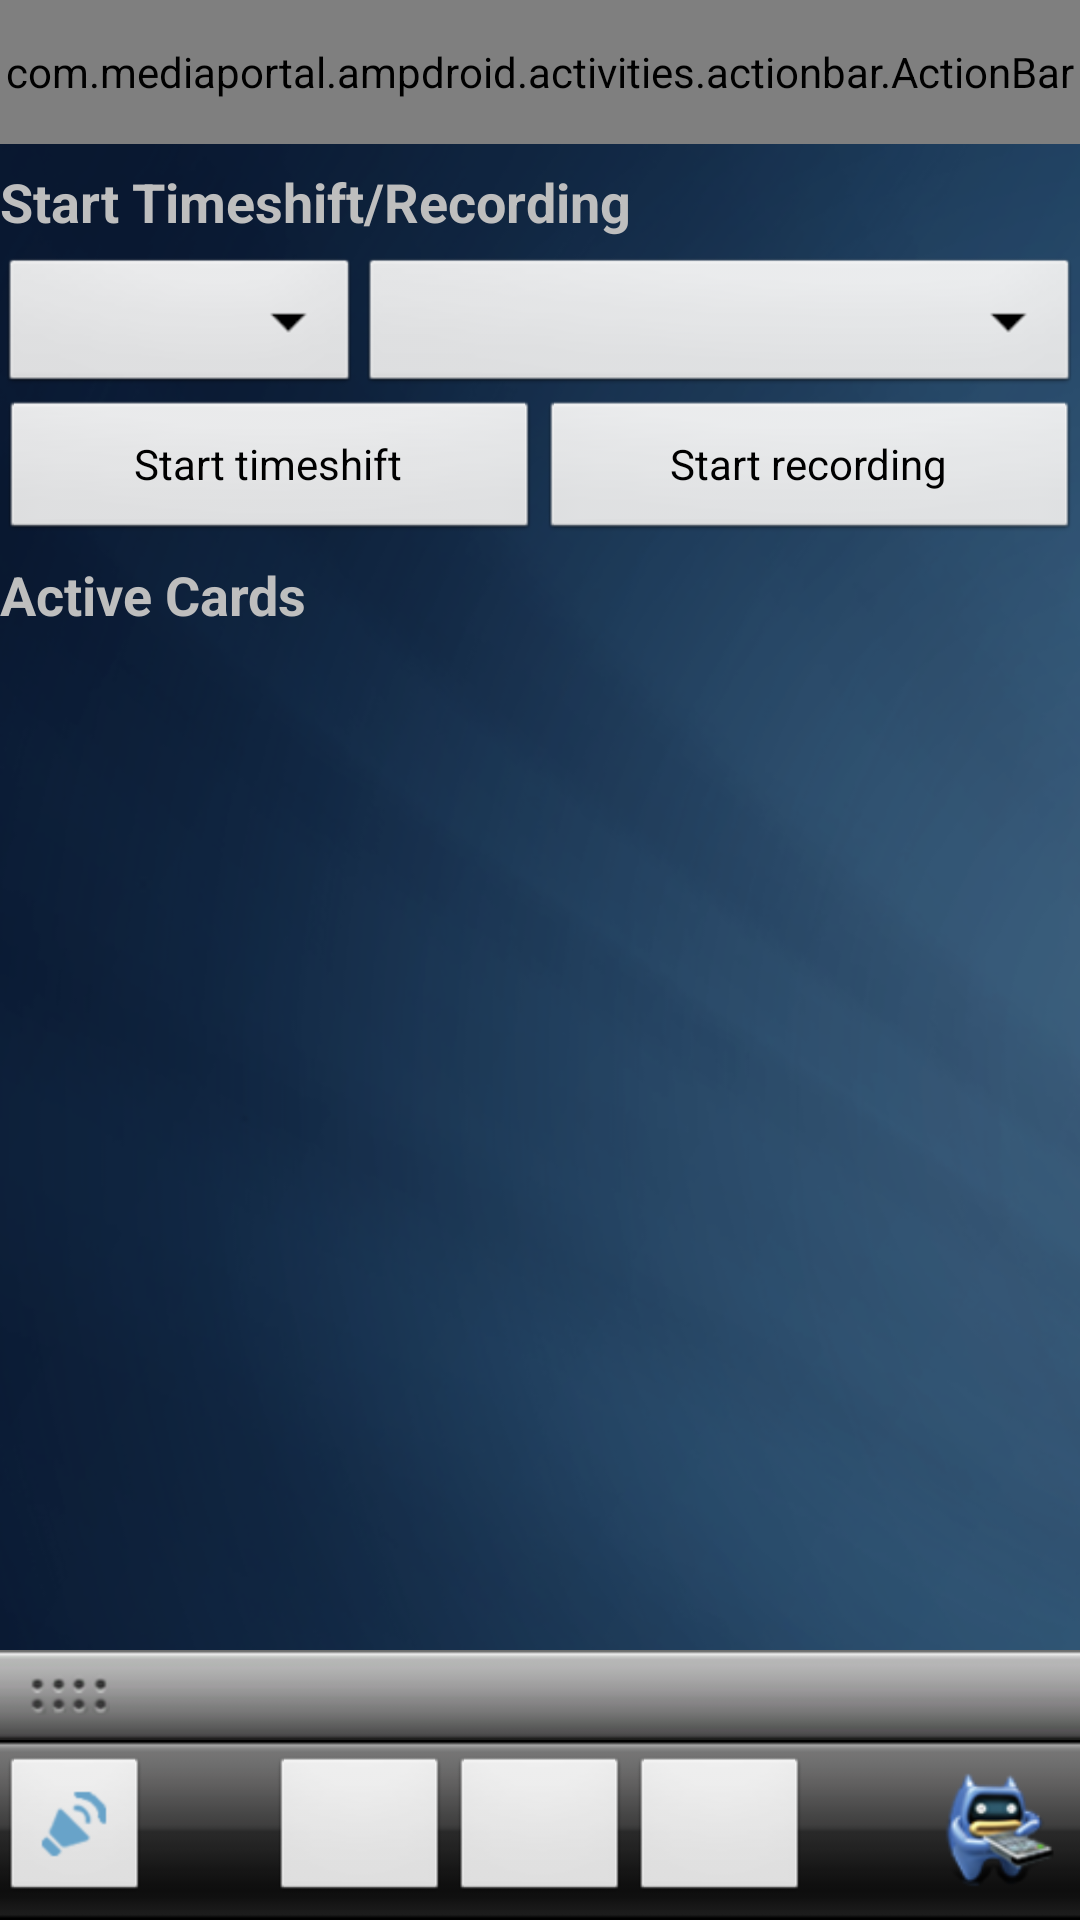

Point at icon controls on the screen. Image size 1080 × 1920, points as (x,y).
slidingdrawer: (70,1695)
volume: (75,1830)
